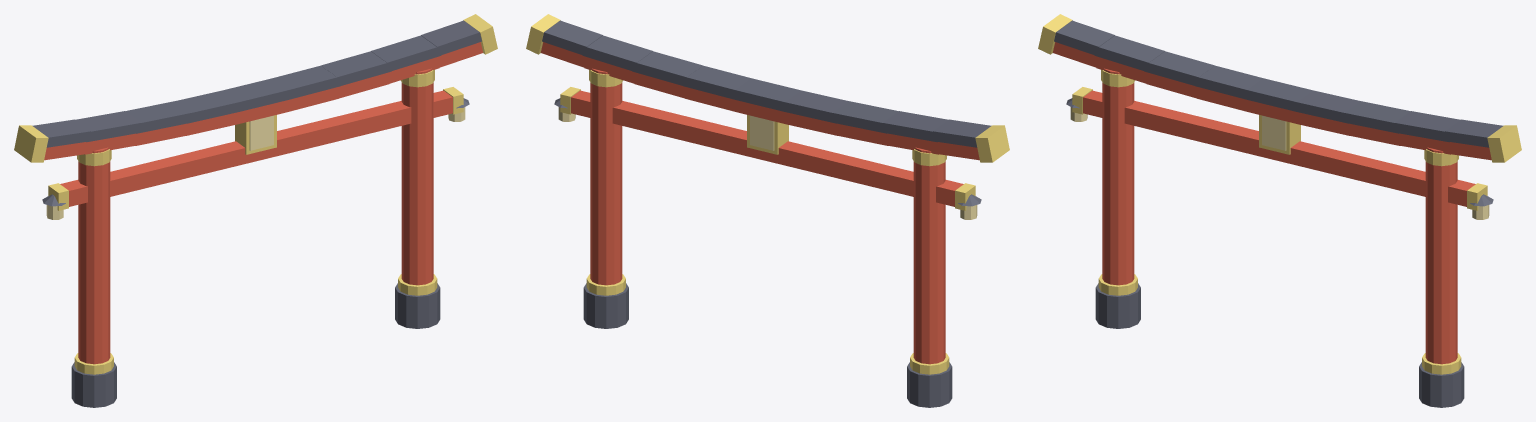
File: SM_Kitsune_Torii_Gate.fbx
3 renders of one model, left to right at view 1: azimuth 30°, elevation 25°; view 2: azimuth 150°, elevation 25°; view 3: azimuth 330°, elevation 25°, orthographic.
Parts seen in each view (by area): view 1: SM_Kitsune_Torii_Gate; view 2: SM_Kitsune_Torii_Gate; view 3: SM_Kitsune_Torii_Gate.
Boxes of the visible parts, x1,y1,x2,y2 form: SM_Kitsune_Torii_Gate: (14, 14, 497, 407); SM_Kitsune_Torii_Gate: (526, 14, 1009, 407); SM_Kitsune_Torii_Gate: (1038, 14, 1521, 407).
Bounding box in the file's own units: 2743 × 1589 × 230.
